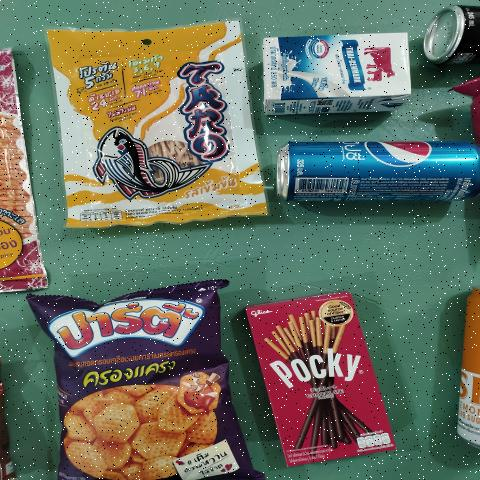party_purple: (61, 285, 204, 472)
pepsi_blue: (273, 146, 480, 202)
pokki: (240, 303, 388, 459)
taro_yellow: (57, 27, 255, 208)
thai_denmark: (264, 36, 407, 99)
